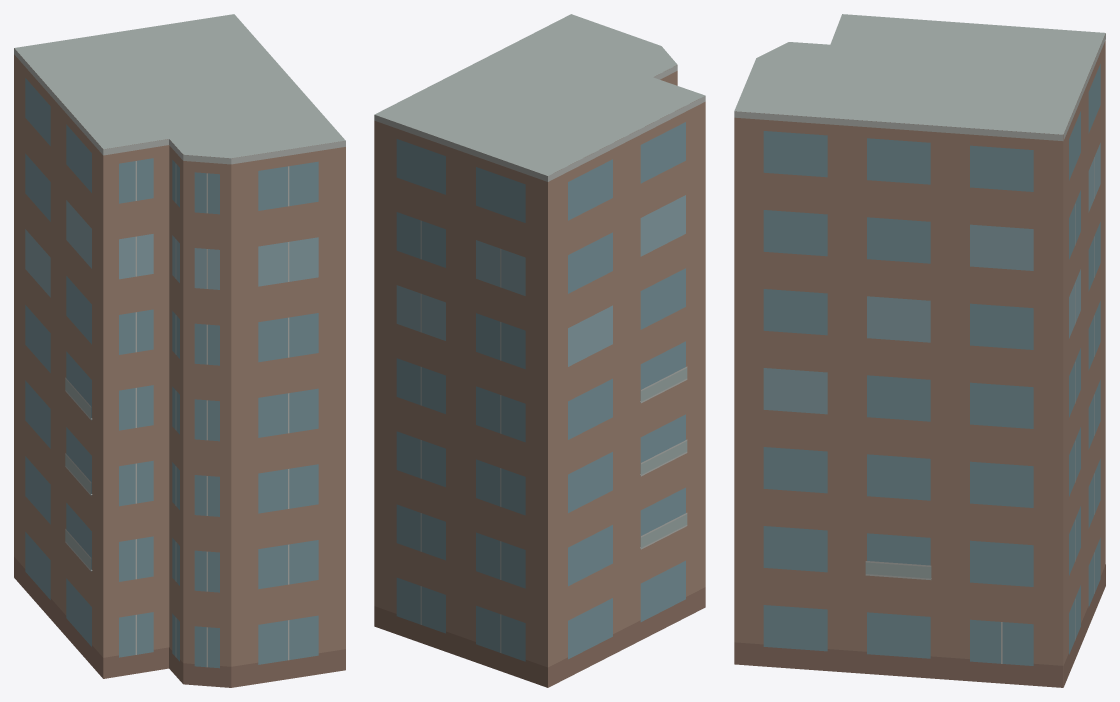
Rendered from survey-upis-33019241.glb.
The picture shows the model from 3 angles, left to right: view 1: azimuth 30°, elevation 25°; view 2: azimuth 150°, elevation 25°; view 3: azimuth 270°, elevation 25°; orthographic projection. The views are drawn at different scales.
Parts seen in each view (by area): view 1: survey-upis-33019241.tmp; view 2: survey-upis-33019241.tmp; view 3: survey-upis-33019241.tmp.
Part boxes in pixels (bbox=[...]): survey-upis-33019241.tmp: bbox=[14, 14, 345, 687]; survey-upis-33019241.tmp: bbox=[374, 14, 705, 687]; survey-upis-33019241.tmp: bbox=[734, 14, 1105, 687].
Size of the model in its own units: 9.84 by 21 by 12.8.
